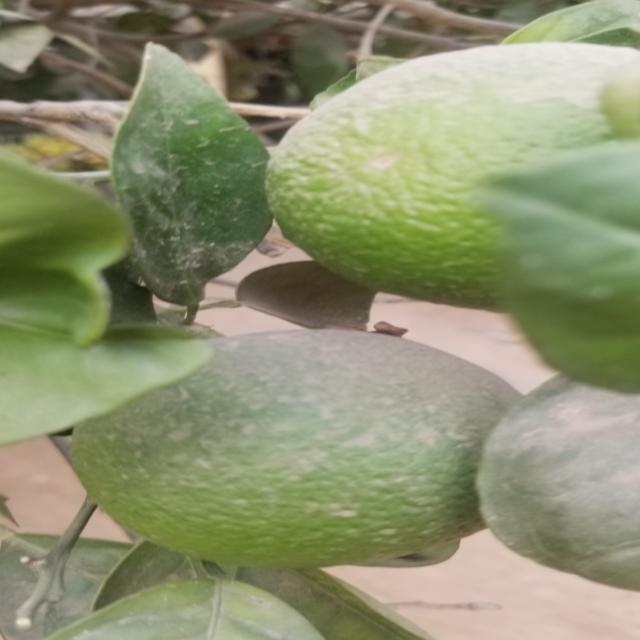Unripe: (85, 330, 513, 576), (261, 45, 640, 318), (464, 367, 636, 598)
